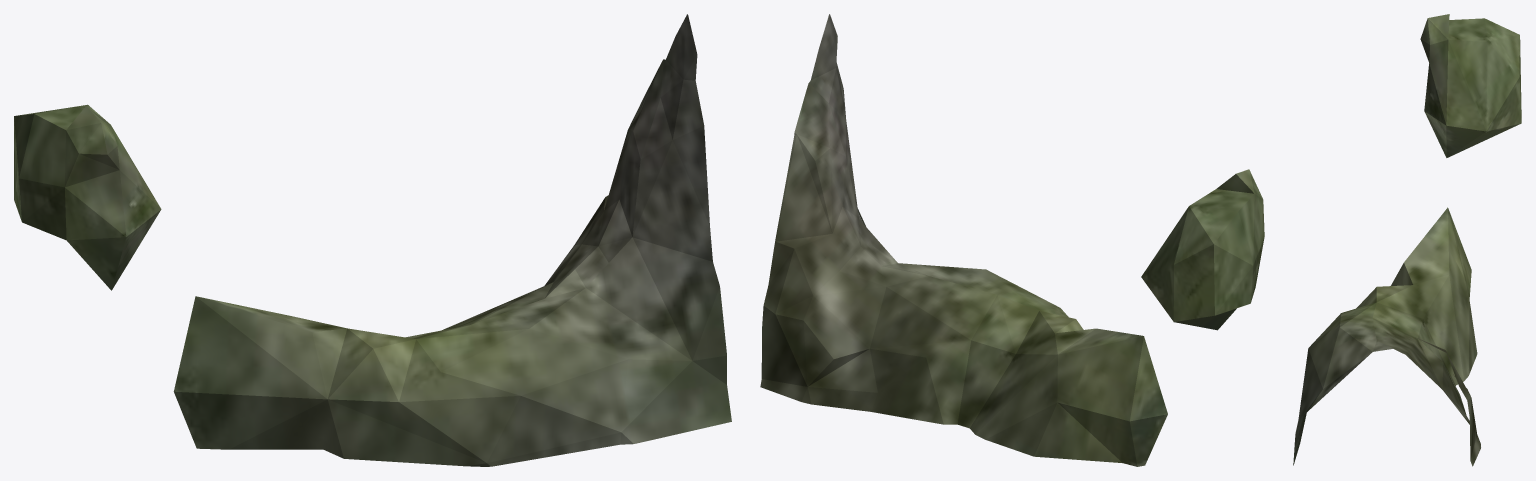
The picture shows the model from 3 angles, left to right: view 1: azimuth 30°, elevation 25°; view 2: azimuth 150°, elevation 25°; view 3: azimuth 270°, elevation 25°; orthographic projection. The views are drawn at different scales.
Bounding box in the file's own units: 2.06 × 1.27 × 0.9753.
Materials: 1 (1 with a texture image).
